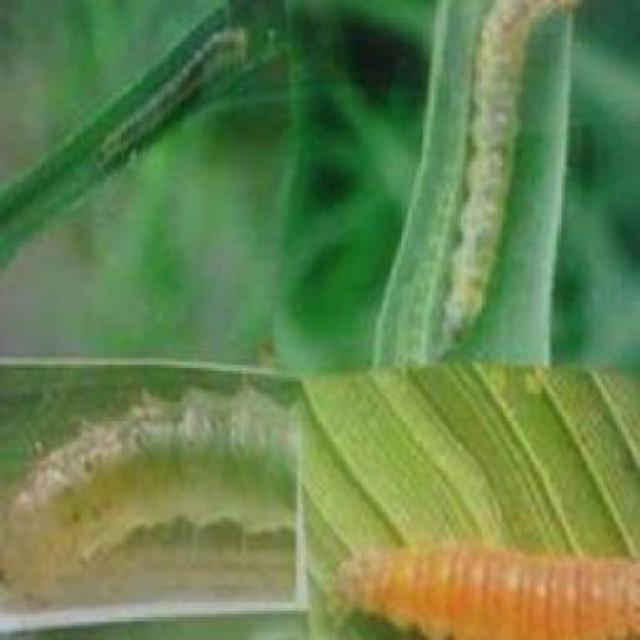leaf-folder: (15, 373, 286, 630), (421, 0, 573, 340), (332, 504, 640, 638), (65, 13, 248, 184)
